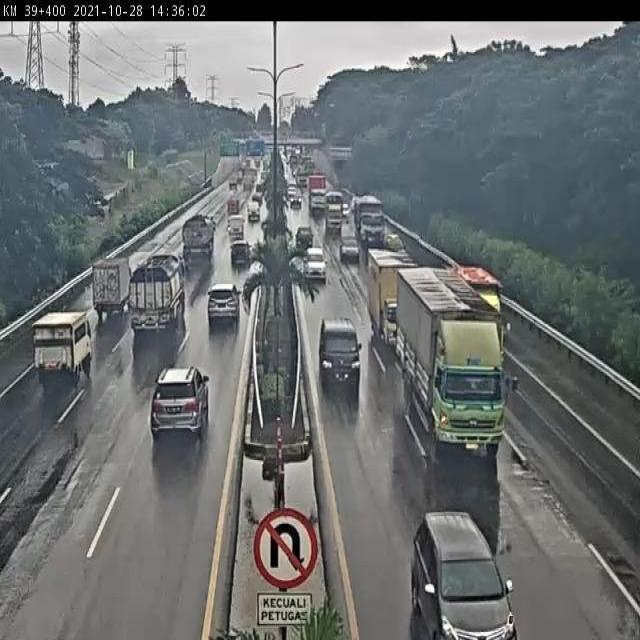big truck: (393, 262, 513, 442), (136, 250, 181, 334), (357, 197, 389, 248), (186, 210, 212, 262)
car: (411, 508, 512, 640), (153, 367, 209, 440), (318, 316, 365, 396), (41, 309, 91, 379), (208, 285, 244, 320), (301, 247, 329, 281), (340, 225, 357, 263), (226, 240, 251, 265), (296, 224, 315, 253), (228, 214, 244, 238), (248, 203, 259, 221), (289, 195, 303, 208)
small truck: (366, 251, 394, 332), (91, 258, 130, 306), (328, 190, 343, 234)
